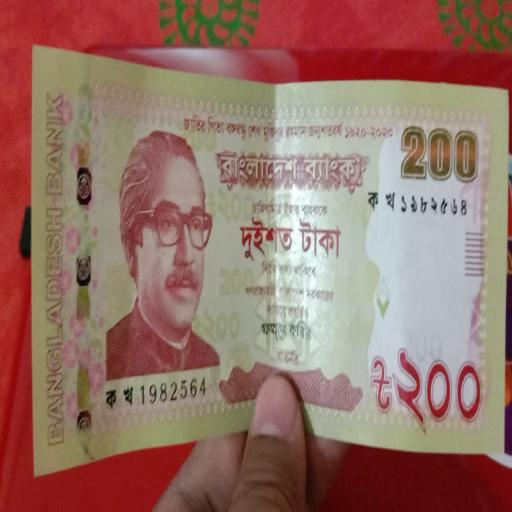200taka: (32, 64, 507, 460)
